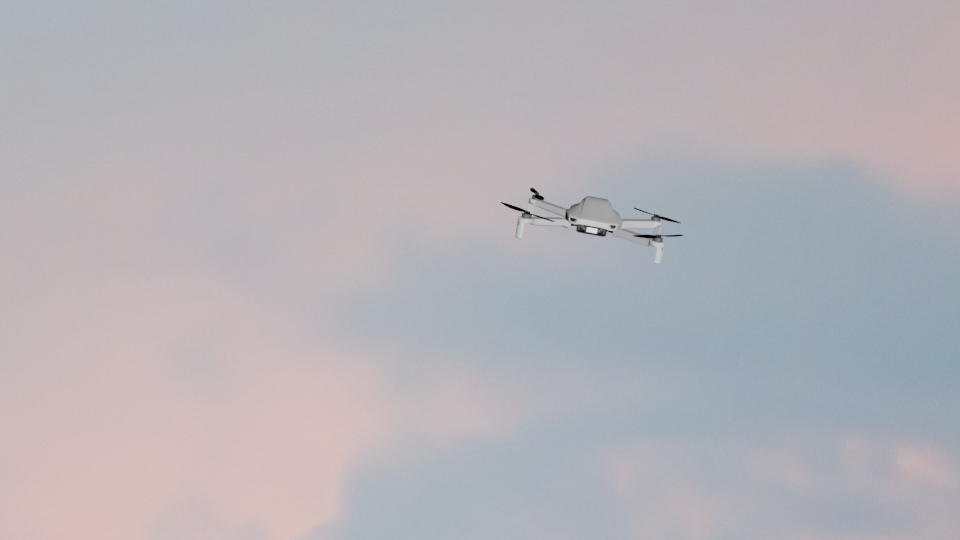drone: (500, 189, 685, 264)
